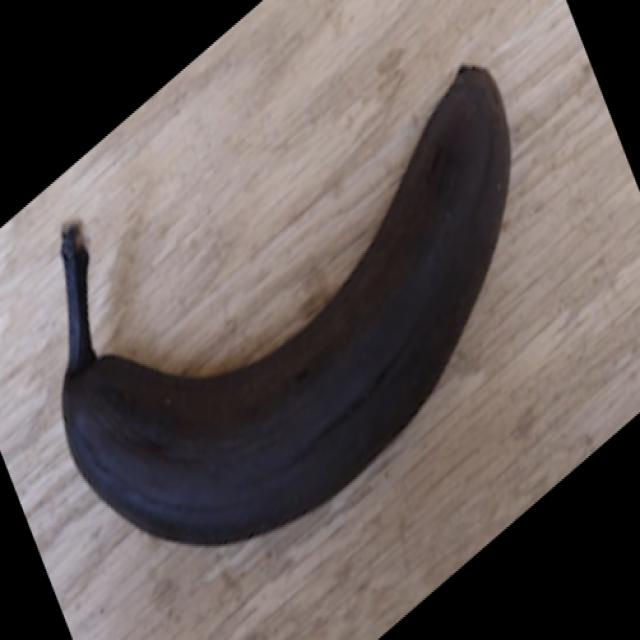Rotten: (58, 62, 510, 545)
